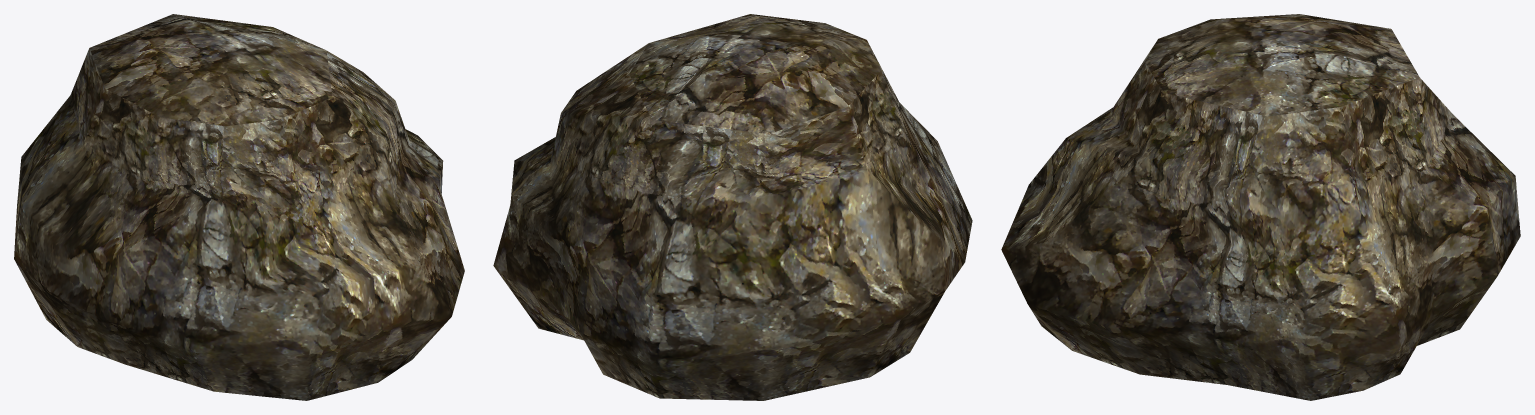
File: PhoenixForest_Hallway_rock01.FBX
3 views of the same model, side by side, from view 1: azimuth 30°, elevation 25°; view 2: azimuth 150°, elevation 25°; view 3: azimuth 270°, elevation 25° (orthographic). The views are drawn at different scales.
Visible parts, largest first — view 1: objStaticMeshActor623; view 2: objStaticMeshActor623; view 3: objStaticMeshActor623.
Boxes of the visible parts, bbox=[...] form: objStaticMeshActor623: bbox=[14, 14, 464, 400]; objStaticMeshActor623: bbox=[493, 14, 972, 400]; objStaticMeshActor623: bbox=[1001, 14, 1520, 400].
Size of the model in its own units: 832 by 528 by 930.
Materials: 1 (1 with a texture image).
